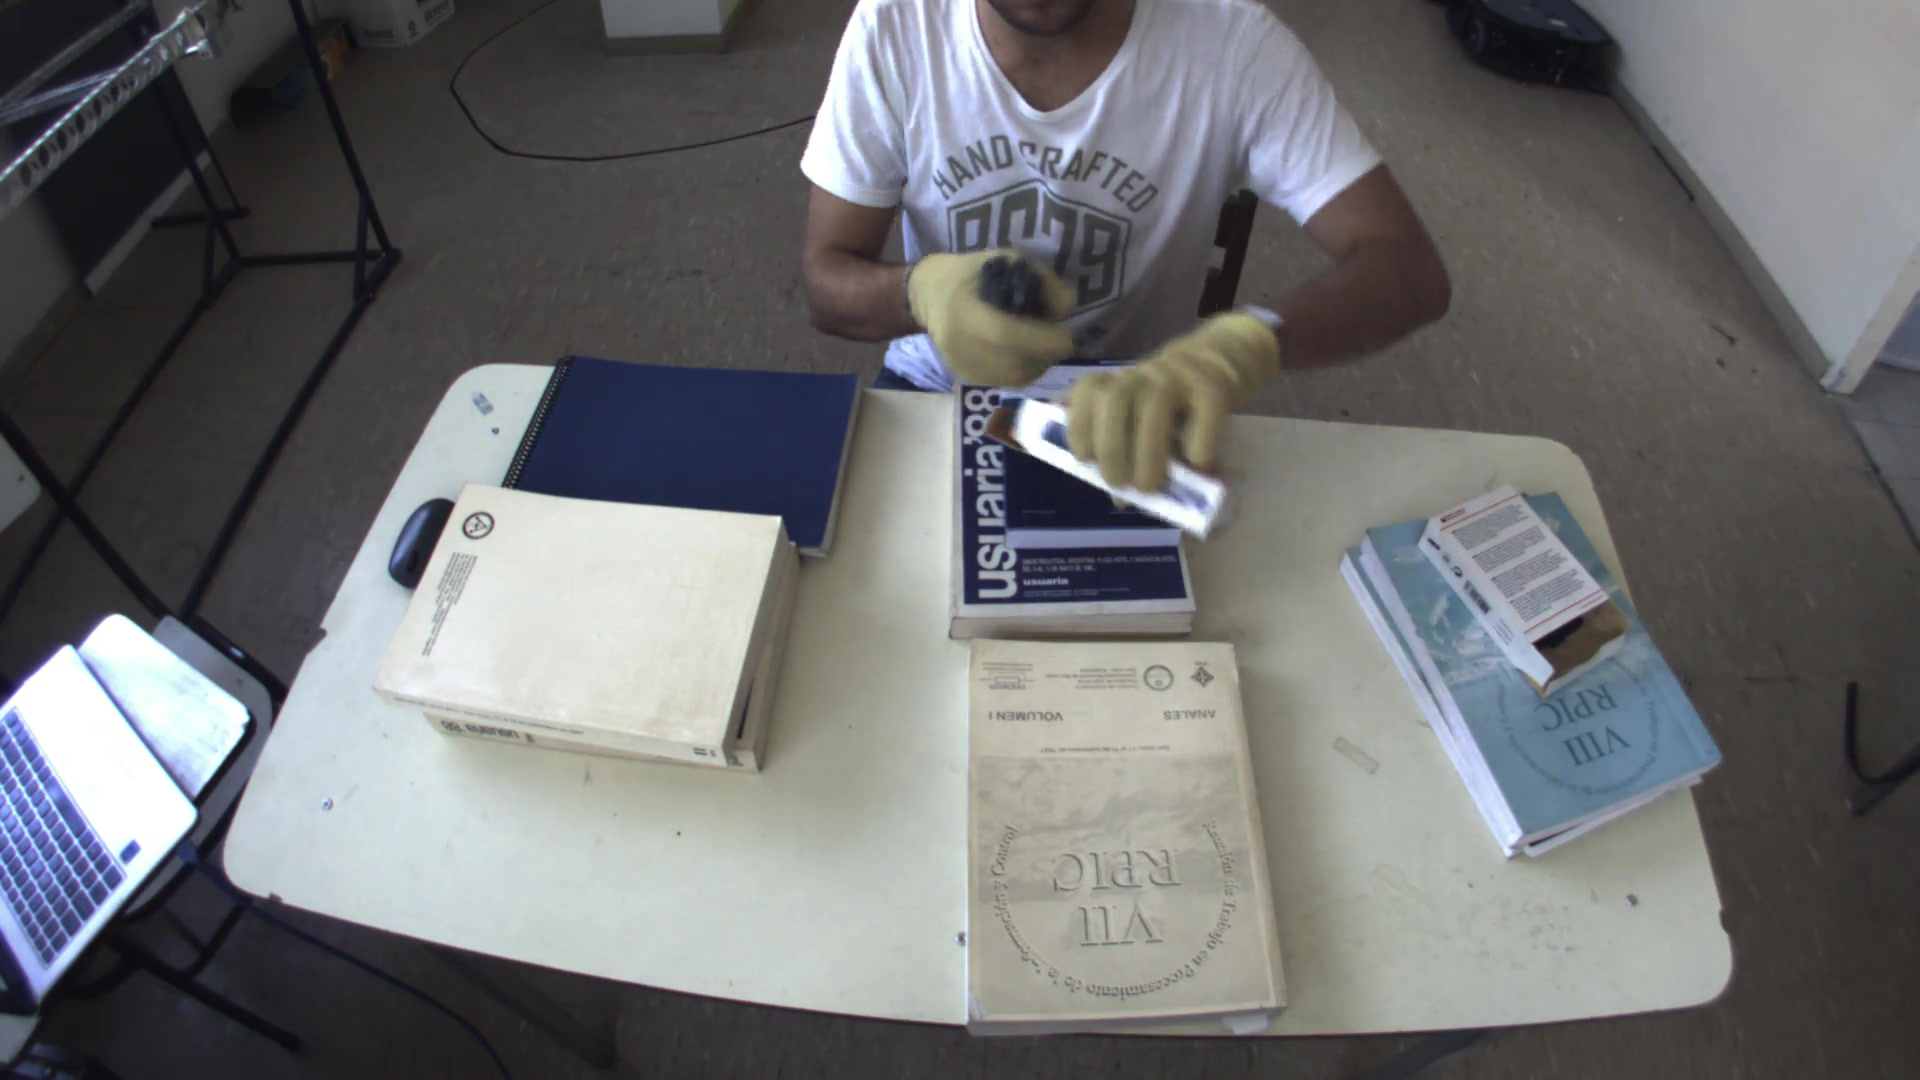hand: (1054, 295, 1296, 501), (902, 237, 1088, 394)
